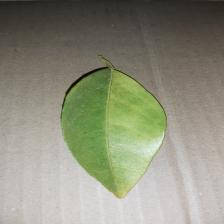greening: (49, 50, 184, 204)
